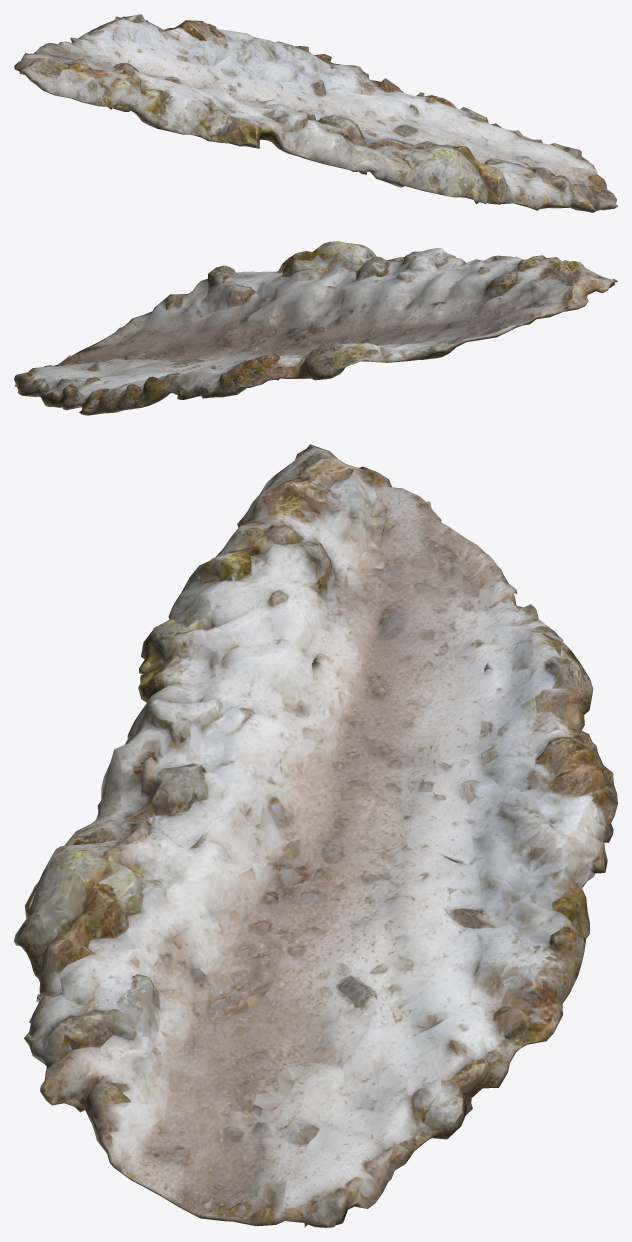
The model's file is snow-path.glb.
The picture shows the model from 3 angles, top to bottom: view 1: azimuth 30°, elevation 25°; view 2: azimuth 150°, elevation 25°; view 3: azimuth 270°, elevation 25°; orthographic projection. The views are drawn at different scales.
Parts seen in each view (by area): view 1: Landscape asset / snow-path; view 2: Landscape asset / snow-path; view 3: Landscape asset / snow-path.
Part boxes in pixels (x1,y1,x2,y2): Landscape asset / snow-path: (14, 14, 617, 212); Landscape asset / snow-path: (14, 241, 617, 415); Landscape asset / snow-path: (14, 444, 617, 1227).
Size of the model in its own units: 1 by 0.4081 by 0.6037.
1 material, 1 textured.
